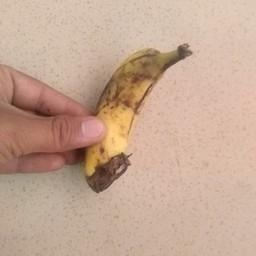Bad_banana: (82, 32, 192, 210)
